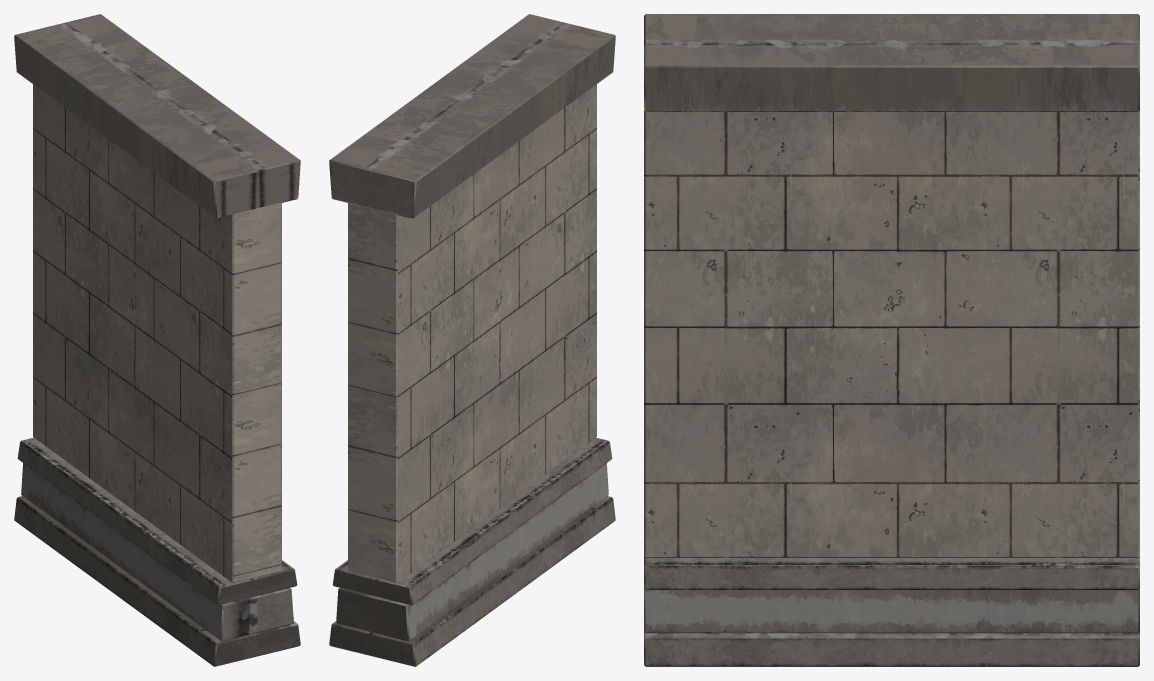
Rendered from SM_Church_Wall_Base.fbx.
The picture shows the model from 3 angles, left to right: view 1: azimuth 30°, elevation 25°; view 2: azimuth 150°, elevation 25°; view 3: azimuth 270°, elevation 25°; orthographic projection. The views are drawn at different scales.
Parts seen in each view (by area): view 1: SM_Wall_Base_LP; view 2: SM_Wall_Base_LP; view 3: SM_Wall_Base_LP.
Boxes of the visible parts, x1,y1,x2,y2 form: SM_Wall_Base_LP: (14, 14, 300, 666); SM_Wall_Base_LP: (329, 14, 615, 666); SM_Wall_Base_LP: (644, 14, 1139, 666).
Size of the model in its own units: 6 by 8.04 by 1.52.
